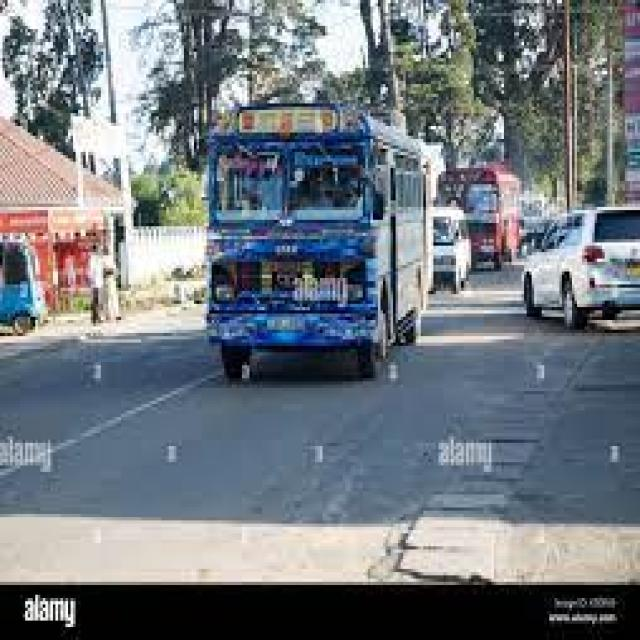bus: (207, 103, 428, 378), (441, 165, 519, 268)
car: (524, 207, 637, 330)
person: (101, 252, 118, 320), (91, 280, 101, 323), (91, 252, 101, 276)
three wheeler: (0, 239, 43, 333)
van: (433, 207, 469, 291)
